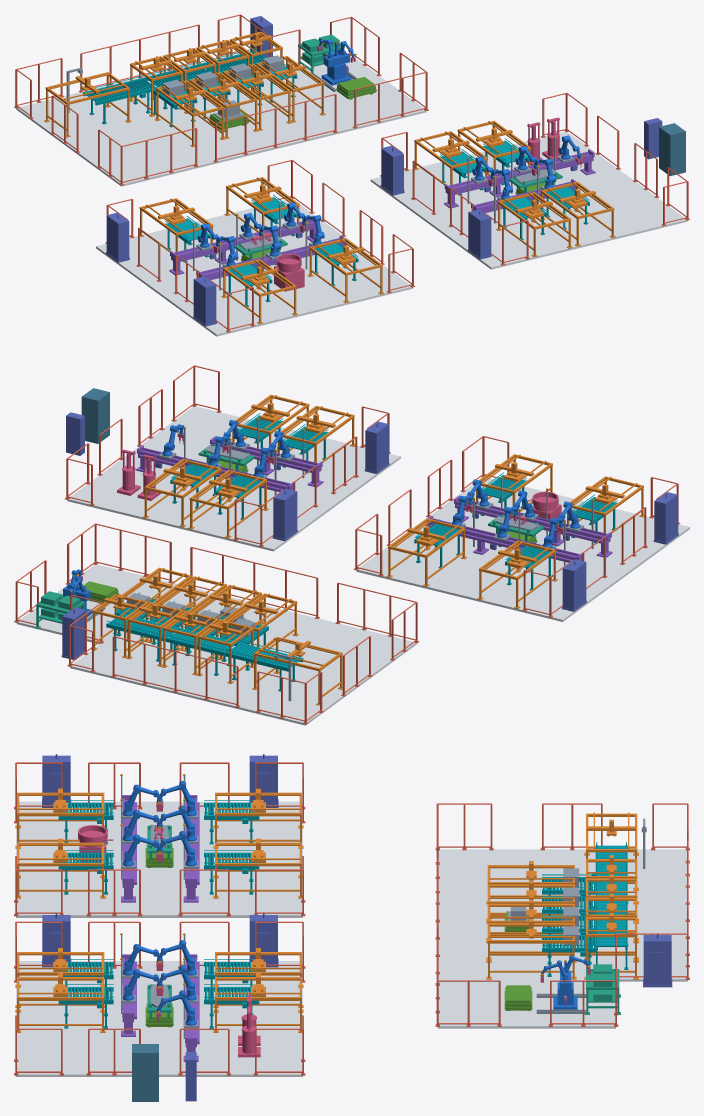
File: assembly.glb
The picture shows the model from 3 angles, top to bottom: view 1: azimuth 30°, elevation 25°; view 2: azimuth 150°, elevation 25°; view 3: azimuth 270°, elevation 25°; orthographic projection. The views are drawn at different scales.
Parts seen in each view (by area): view 1: m0006, m0002, m0004, m0033, m0027, m0046, m0040, m0032, m0025, m0026, m0048, m0045 (+17 smaller); view 2: m0006, m0002, m0004, m0033, m0027, m0046, m0040, m0032, m0026, m0025, m0044, m0048 (+16 smaller); view 3: m0006, m0004, m0002, m0033, m0046, m0040, m0032, m0027, m0045, m0026, m0025, m0039 (+17 smaller).
Boxes of the visible parts, left/top/right/bottom form: m0006: left=16, top=53, right=426, bottom=186; m0002: left=370, top=131, right=687, bottom=269; m0004: left=96, top=199, right=412, bottom=336; m0033: left=44, top=31, right=325, bottom=147; m0027: left=14, top=14, right=428, bottom=185; m0046: left=139, top=177, right=384, bottom=324; m0040: left=414, top=120, right=615, bottom=257; m0032: left=83, top=48, right=297, bottom=127; m0025: left=380, top=92, right=689, bottom=265; m0026: left=105, top=160, right=415, bottom=332; m0048: left=106, top=212, right=216, bottom=326; m0045: left=165, top=194, right=358, bottom=306; m0006: left=16, top=564, right=416, bottom=725; m0002: left=67, top=406, right=400, bottom=551; m0004: left=356, top=478, right=689, bottom=621; m0033: left=91, top=567, right=342, bottom=705; m0027: left=14, top=523, right=419, bottom=724; m0046: left=386, top=454, right=644, bottom=608; m0040: left=142, top=394, right=355, bottom=538; m0032: left=106, top=592, right=303, bottom=691; m0026: left=353, top=436, right=680, bottom=617; m0025: left=64, top=365, right=390, bottom=547; m0044: left=428, top=495, right=612, bottom=562; m0048: left=562, top=492, right=678, bottom=611; m0006: left=437, top=849, right=687, bottom=1028; m0004: left=16, top=801, right=302, bottom=917; m0002: left=16, top=961, right=302, bottom=1076; m0033: left=486, top=812, right=638, bottom=979; m0046: left=15, top=788, right=303, bottom=898; m0040: left=15, top=948, right=303, bottom=1032; m0032: left=542, top=842, right=628, bottom=976; m0027: left=435, top=803, right=689, bottom=1026; m0045: left=58, top=800, right=259, bottom=894; m0026: left=14, top=762, right=305, bottom=916; m0025: left=14, top=921, right=305, bottom=1075; m0039: left=58, top=959, right=259, bottom=1028.
Bounding box in the file's own units: 26.41 × 2.36 × 25.1.
